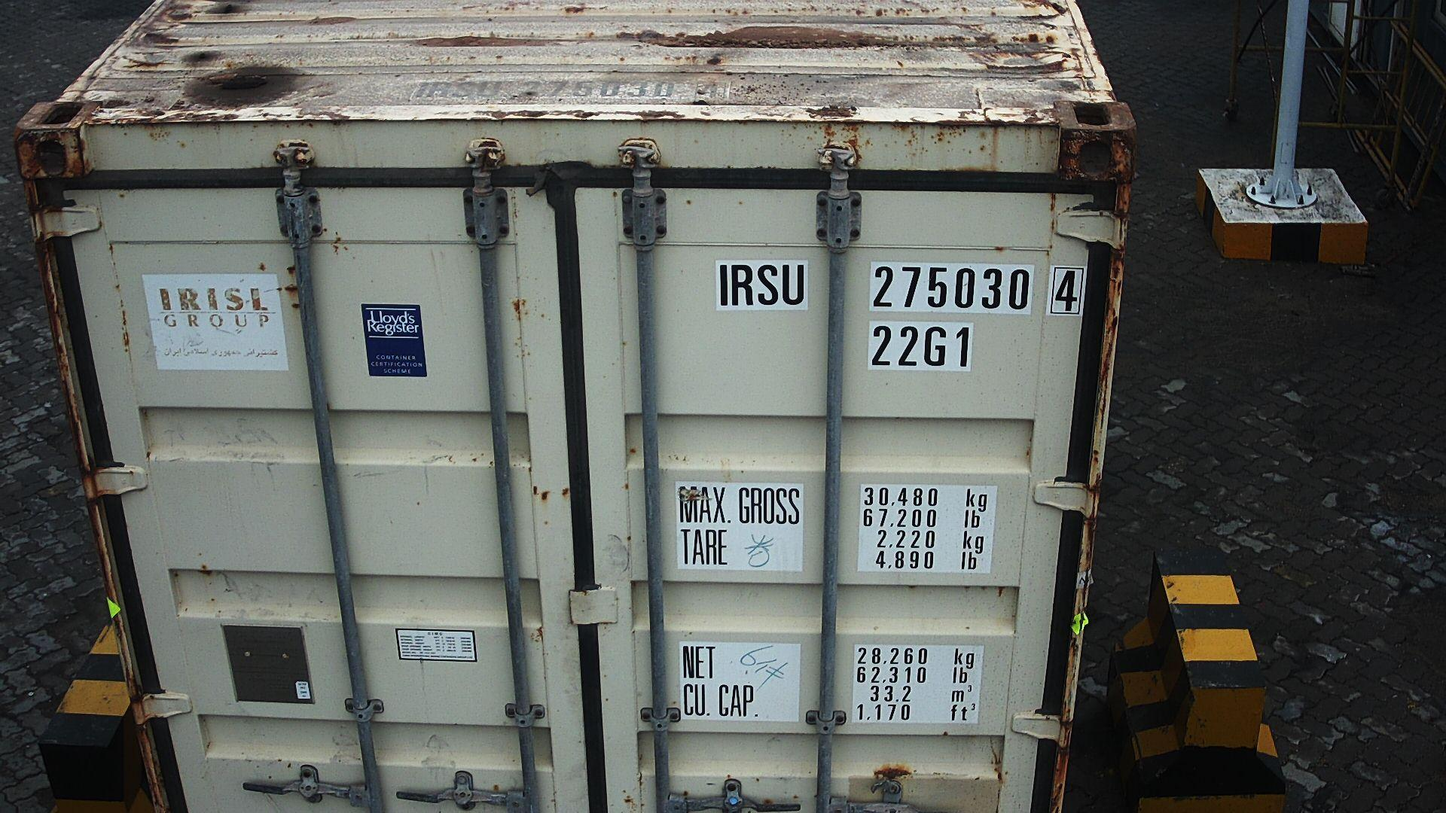container-numbers: (713, 258, 1091, 318), (409, 77, 731, 103), (865, 319, 977, 373)
